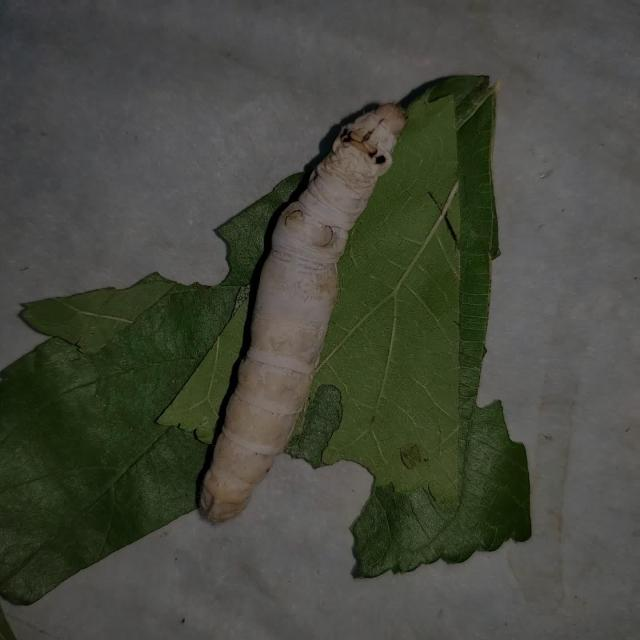Grasserie: (189, 82, 403, 536)
